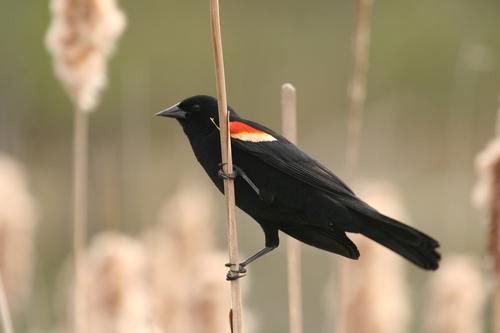010.Red_winged_Blackbird: (153, 92, 446, 286)
